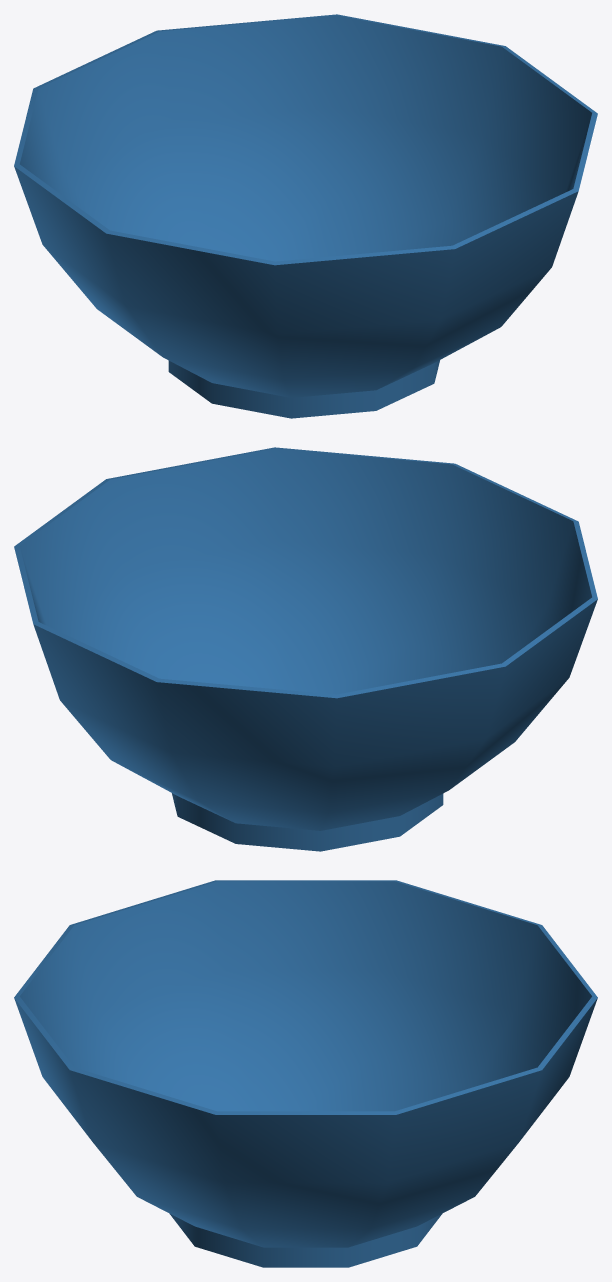
The model's file is bowl01.fbx.
3 renders of one model, top to bottom at view 1: azimuth 30°, elevation 25°; view 2: azimuth 150°, elevation 25°; view 3: azimuth 270°, elevation 25°, orthographic. The views are drawn at different scales.
Visible parts, largest first — view 1: pSphere1; view 2: pSphere1; view 3: pSphere1.
Boxes of the visible parts, <box> form: pSphere1: <box>14,14,597,418</box>; pSphere1: <box>14,447,597,851</box>; pSphere1: <box>14,880,597,1267</box>.
Size of the model in its own units: 0.2468 by 0.106 by 0.2595.
